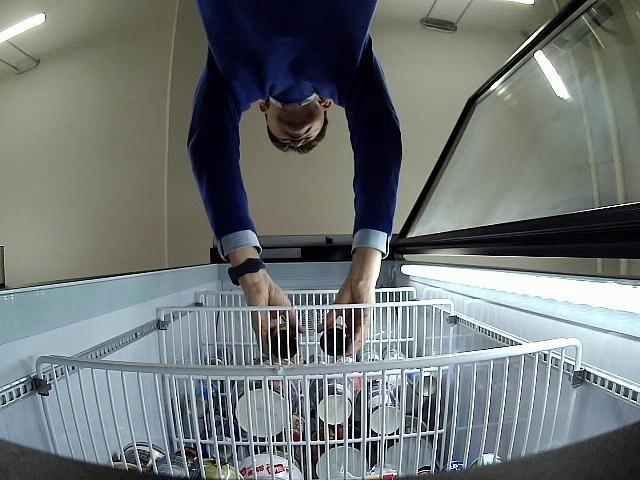17_vita500: (270, 322, 298, 360), (320, 324, 350, 357)
